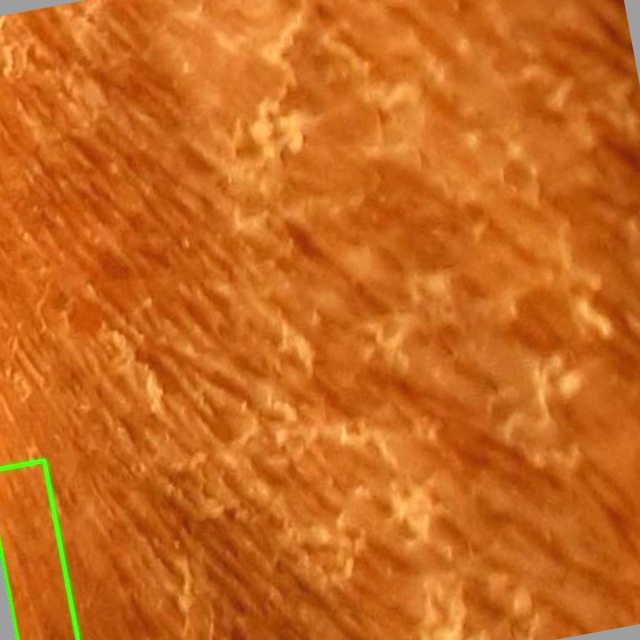Tinea Corporis: (0, 460, 77, 639)
